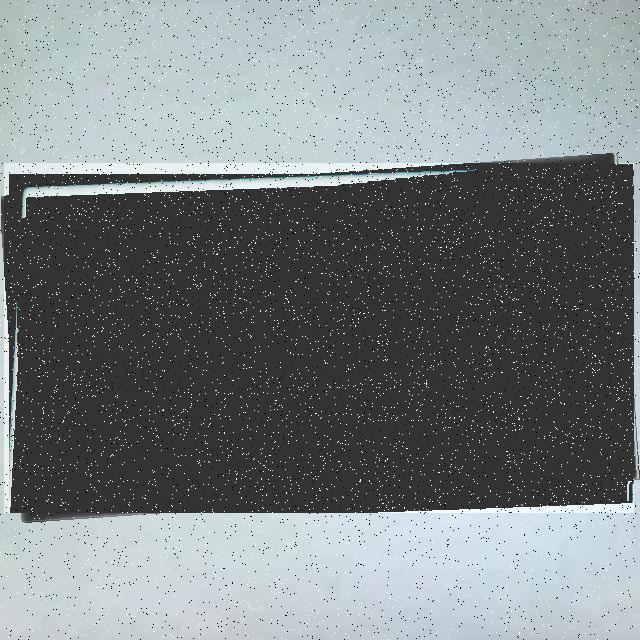lima puluh ribu rupiah: (4, 163, 634, 513)
